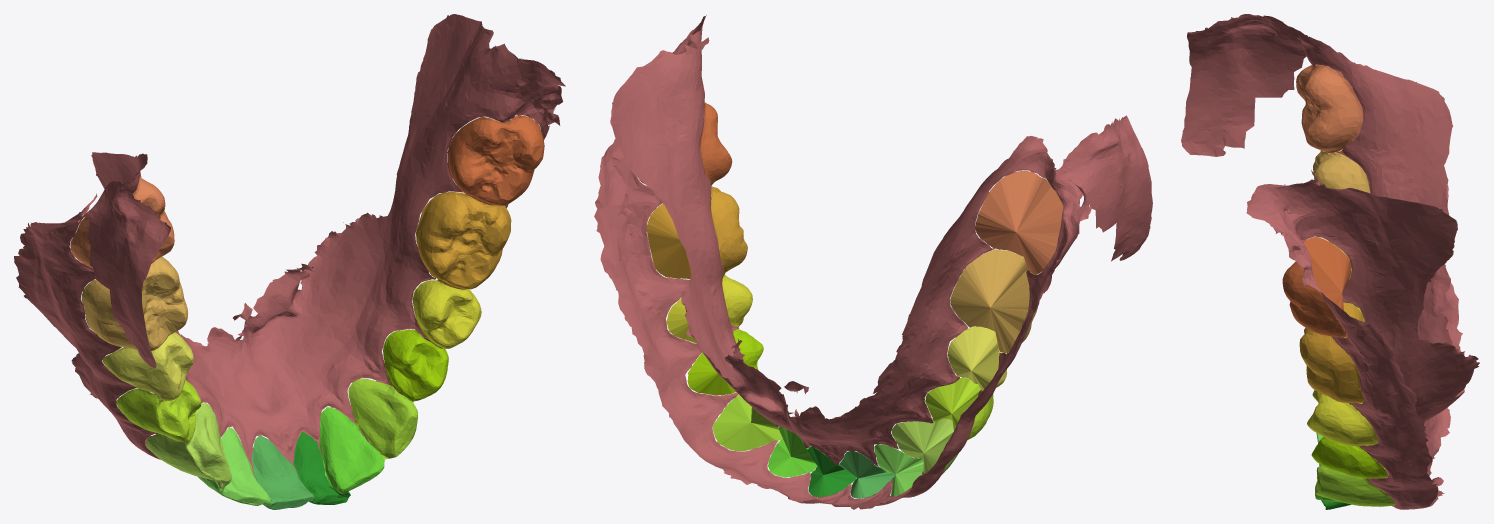
Rendered from lower_40k.obj.
3 views of the same model, side by side, from view 1: azimuth 30°, elevation 25°; view 2: azimuth 150°, elevation 25°; view 3: azimuth 270°, elevation 25° (orthographic). The views are drawn at different scales.
Size of the model in its own units: 67.47 by 55.16 by 37.19.
